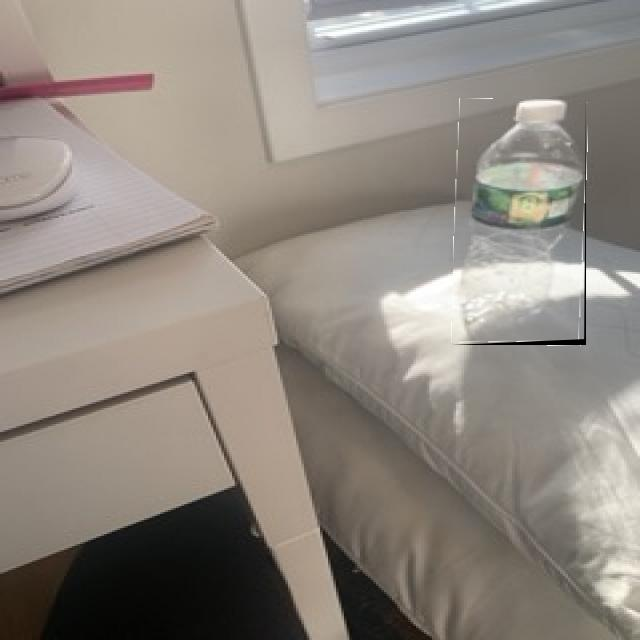water_bottle: (453, 99, 586, 345)
